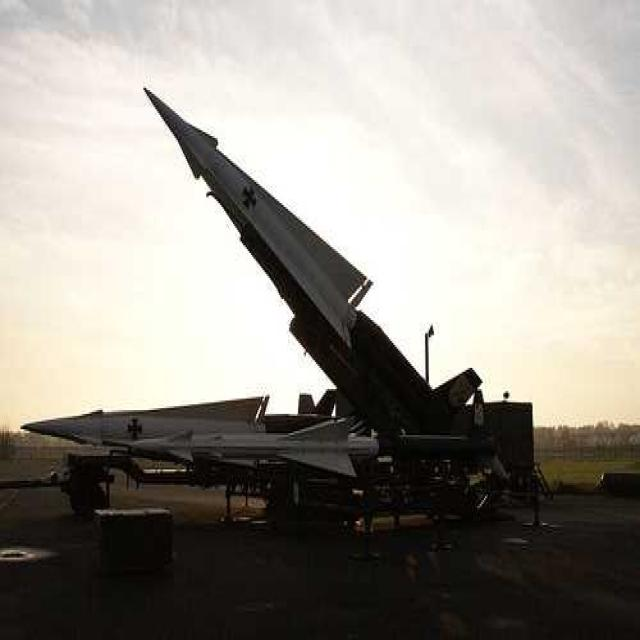missile: (141, 80, 480, 452), (21, 389, 378, 484)
